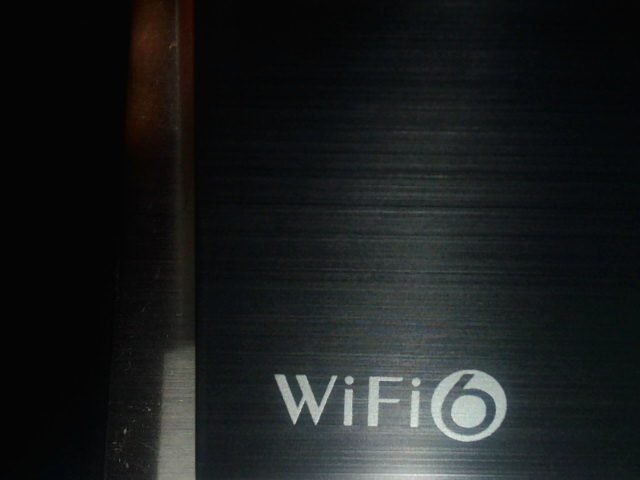AK_ZTEWIFI6Black: (259, 358, 516, 445)
